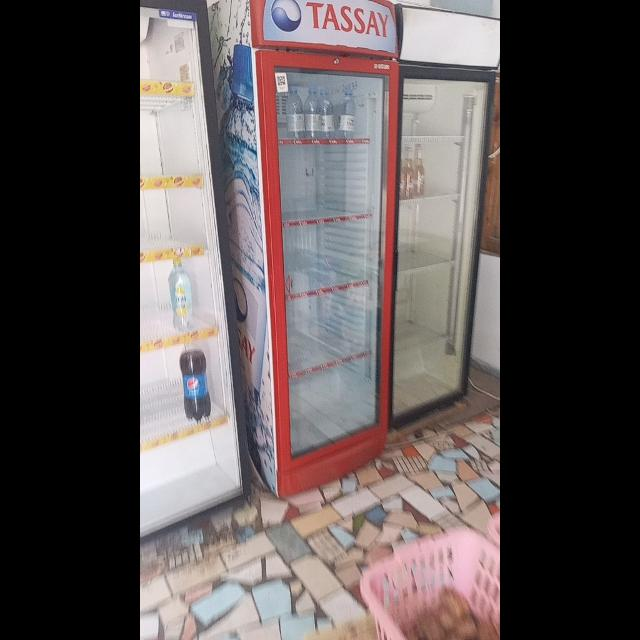Cooling-Display: (250, 0, 400, 496)
